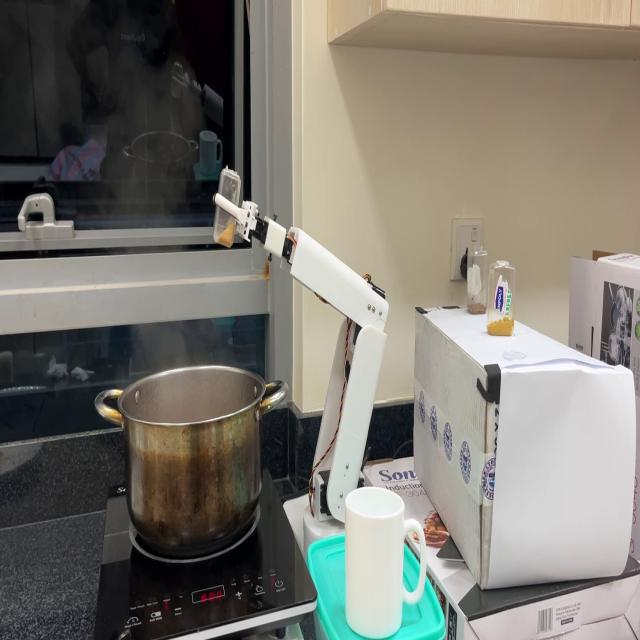cooking_pot: (95, 361, 289, 548)
curry_powder: (487, 313, 514, 338)
garlic_powder: (218, 218, 234, 249)
maggie_open: (467, 297, 486, 313)
